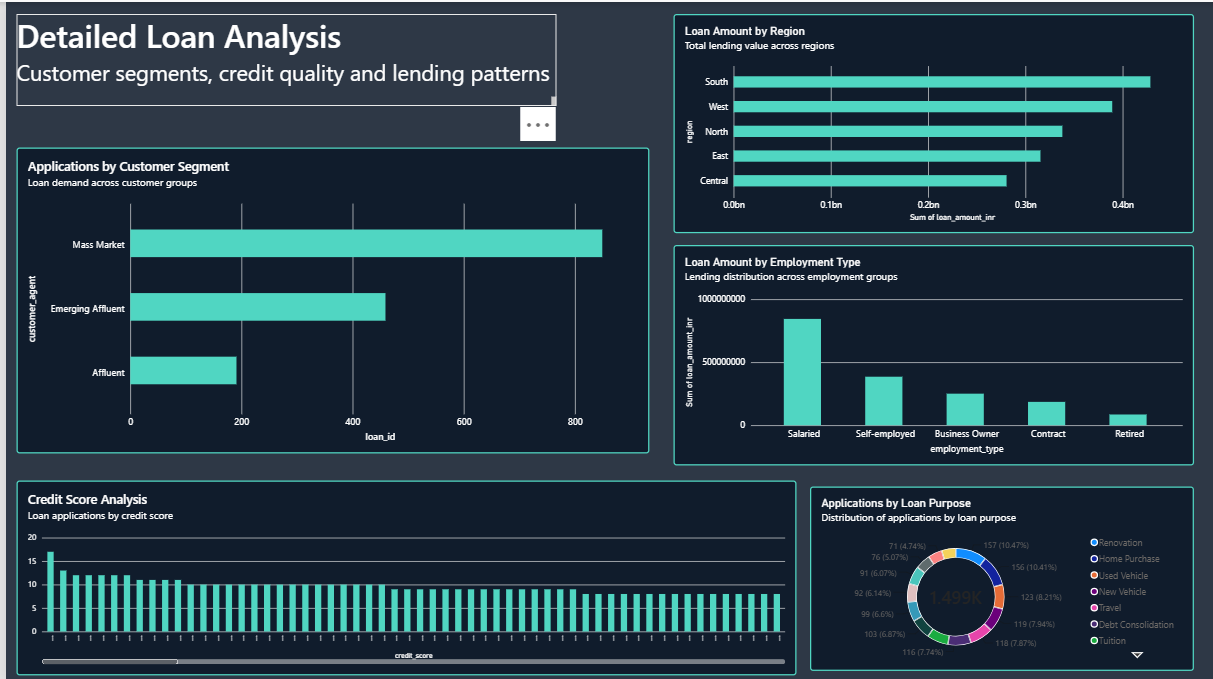

This screenshot's page, from the dashboard's own definition file:
{"tool":"powerbi","page":{"name":"Detailed Analysis","canvas":[1920,1080],"ordinal":1},"visuals":[{"type":"textbox","title":"Detailed Loan Analysis","box":[16.7,19.1,858.9,145.5],"z":0},{"type":"clusteredBarChart","title":"Applications by Customer Segment","fields":{"Category":["Loans.customer_segment"],"Y":["CountNonNull(Loans.loan_id)"]},"box":[16.7,231.4,1006.9,486.7],"z":1},{"type":"clusteredColumnChart","title":"Credit Score Analysis","fields":{"Category":["Loans.credit_score"],"Y":["CountNonNull(Loans.loan_id)"]},"box":[16.7,761.1,1240.7,310.2],"z":2},{"type":"clusteredColumnChart","title":"Loan Amount by Employment Type","fields":{"Category":["Loans.employment_type"],"Y":["Sum(Loans.loan_amount_inr)"]},"box":[1061.7,386.5,827.9,350.7],"z":3},{"type":"donutChart","title":"Applications by Loan Purpose","fields":{"Category":["Loans.loan_purpose"],"Y":["CountNonNull(Loans.loan_id)"]},"box":[1278.9,770.7,610.8,293.5],"z":4},{"type":"clusteredBarChart","title":"Loan Amount by Region","fields":{"Category":["Loans.region"],"Y":["Sum(Loans.loan_amount_inr)"]},"box":[1061.7,19.1,827.9,348.3],"z":5}]}

Visuals, with their boxes in screenshot pixels (x1, y1, x2, y2), scaled from the page's 1920x1080 canvas onto the 1213x679 screenshot:
"Detailed Loan Analysis" textbox: bbox=[11, 12, 553, 103]
"Applications by Customer Segment" clusteredBarChart: bbox=[11, 145, 647, 451]
"Credit Score Analysis" clusteredColumnChart: bbox=[11, 479, 794, 674]
"Loan Amount by Employment Type" clusteredColumnChart: bbox=[671, 243, 1194, 463]
"Applications by Loan Purpose" donutChart: bbox=[808, 485, 1194, 669]
"Loan Amount by Region" clusteredBarChart: bbox=[671, 12, 1194, 231]
